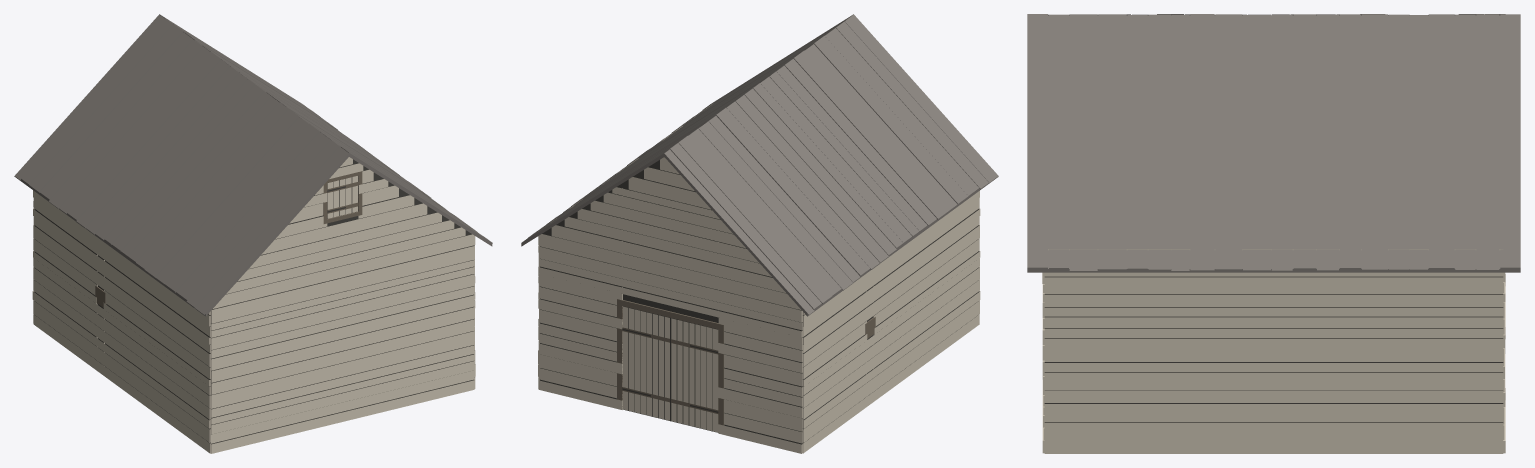
Rendered from recon_1835_blk_washington_clinton_a2_19__inferred_1835.glb.
3 renders of one model, left to right at view 1: azimuth 30°, elevation 25°; view 2: azimuth 150°, elevation 25°; view 3: azimuth 270°, elevation 25°, orthographic. The views are drawn at different scales.
Visible parts, largest first — view 1: recon_1835_blk_washington_clinton_a2_19__inferred_1835; view 2: recon_1835_blk_washington_clinton_a2_19__inferred_1835; view 3: recon_1835_blk_washington_clinton_a2_19__inferred_1835.
Part boxes in pixels (left/top/right/bottom): recon_1835_blk_washington_clinton_a2_19__inferred_1835: left=14, top=14, right=492, bottom=453; recon_1835_blk_washington_clinton_a2_19__inferred_1835: left=521, top=14, right=998, bottom=453; recon_1835_blk_washington_clinton_a2_19__inferred_1835: left=1027, top=14, right=1520, bottom=453.
Bounding box in the file's own units: 8.74 × 7.88 × 9.91.
